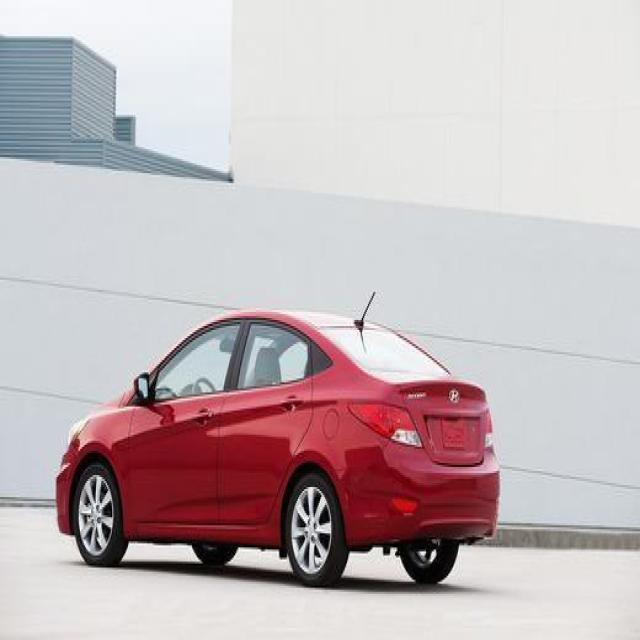Car: (34, 276, 501, 576)
